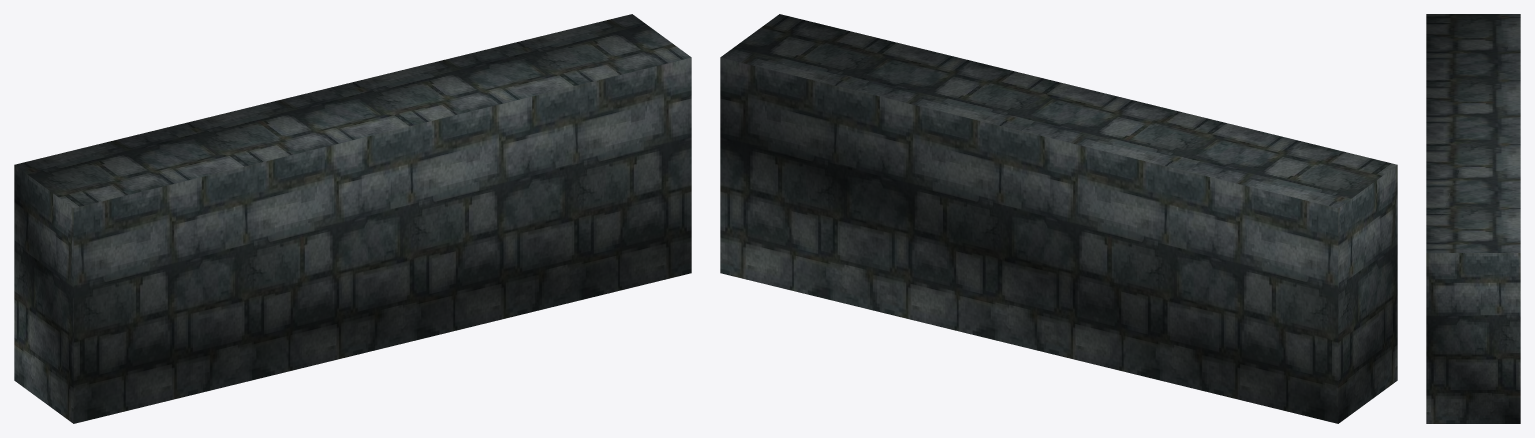
Rendered from dark stone halfwall.glb.
3 renders of one model, left to right at view 1: azimuth 30°, elevation 25°; view 2: azimuth 150°, elevation 25°; view 3: azimuth 270°, elevation 25°, orthographic. The views are drawn at different scales.
Parts seen in each view (by area): view 1: 3' Tall Wall; view 2: 3' Tall Wall; view 3: 3' Tall Wall.
Part boxes in pixels (bbox=[...]): 3' Tall Wall: bbox=[14, 14, 691, 423]; 3' Tall Wall: bbox=[720, 14, 1397, 423]; 3' Tall Wall: bbox=[1426, 14, 1520, 423].
Size of the model in its own units: 2.74 by 0.9144 by 0.4572.
1 material, 1 textured.
